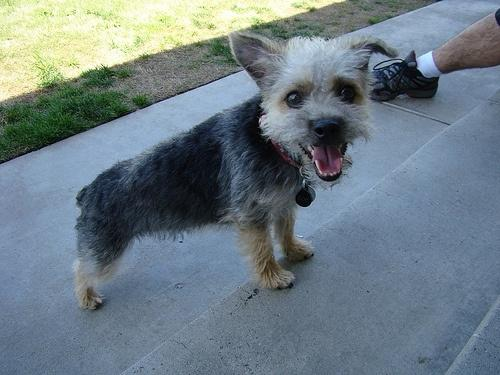dog: (75, 33, 396, 308)
